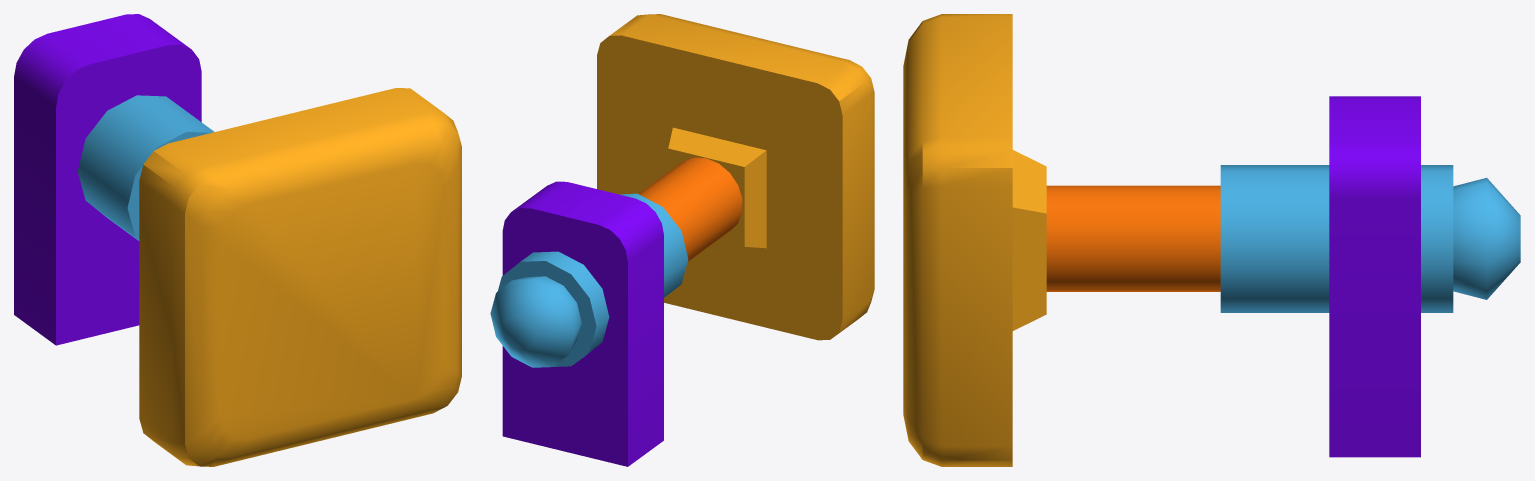
The model's file is Pusher_01.fbx.
3 renders of one model, left to right at view 1: azimuth 30°, elevation 25°; view 2: azimuth 150°, elevation 25°; view 3: azimuth 270°, elevation 25°, orthographic. The views are drawn at different scales.
Parts seen in each view (by area): view 1: Obstacle_Pusher_01_Head, Obstacle_Pusher_01; view 2: Obstacle_Pusher_01_Head, Obstacle_Pusher_01; view 3: Obstacle_Pusher_01_Head, Obstacle_Pusher_01.
Boxes of the visible parts, x1,y1,x2,y2 form: Obstacle_Pusher_01_Head: (139, 88, 461, 466); Obstacle_Pusher_01: (14, 14, 214, 345); Obstacle_Pusher_01_Head: (597, 14, 874, 340); Obstacle_Pusher_01: (490, 181, 688, 466); Obstacle_Pusher_01_Head: (903, 14, 1220, 466); Obstacle_Pusher_01: (1220, 96, 1520, 457).
Bounding box in the file's own units: 97.91 × 104 × 168.
Materials: 1 (1 with a texture image).
